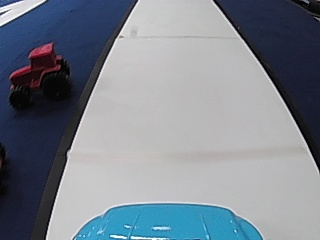tractor: (4, 40, 71, 109)
